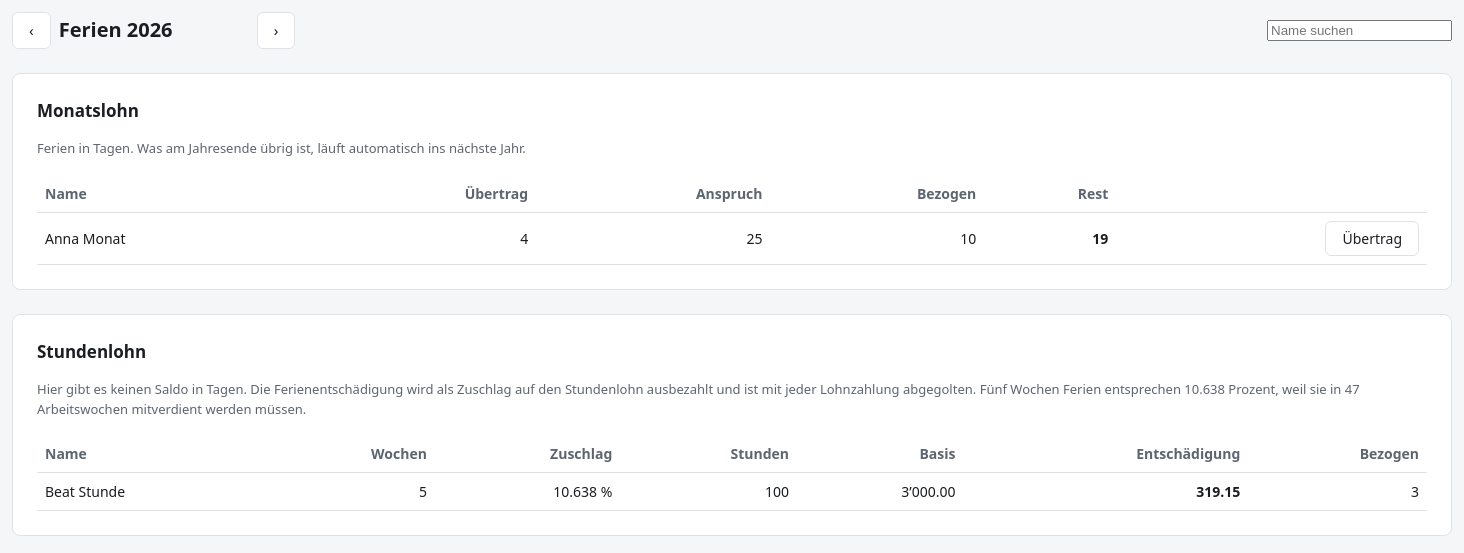
Test: Suche › filtert beide Tabellen nach Namen
Expected: the heading "Monatslohn" is shown, [37,98,139,122]
Type "Beat" into the search field with placeholder "Name suchen" at (1360, 30), box [1267,20,1452,41]
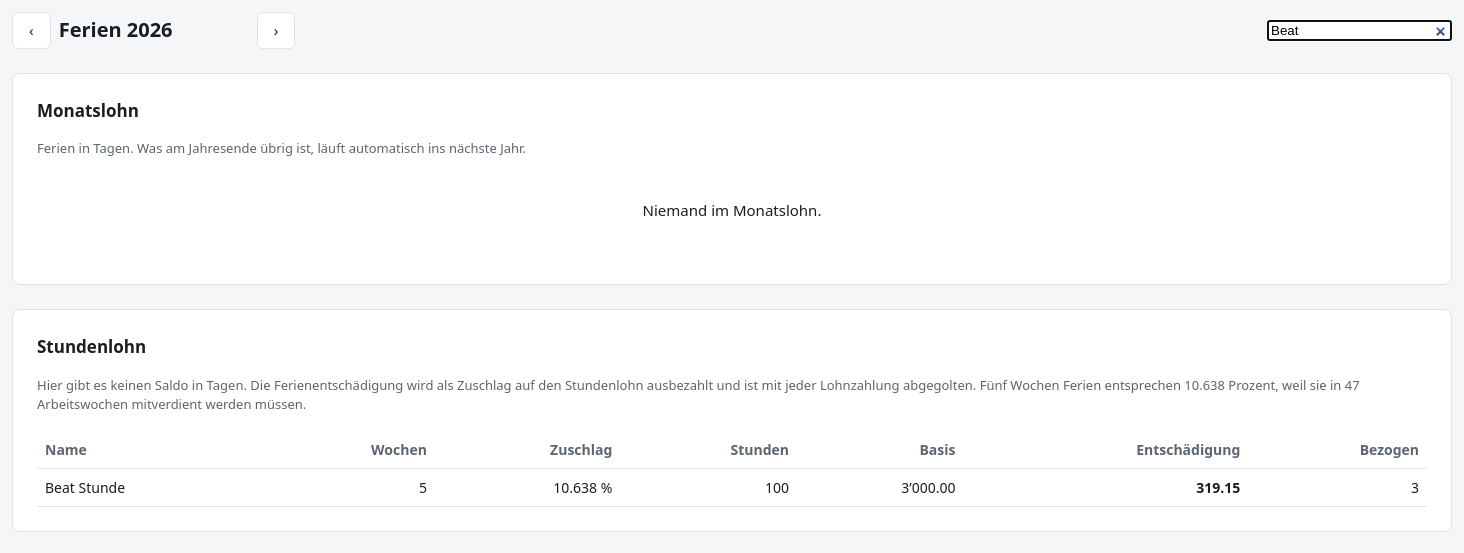
Expected: the text "Beat Stunde" is shown, [37,468,265,506]
Expected: the text "Anna Monat" is gone
Expected: the text "Niemand im Monatslohn." is shown, [643,200,821,220]
